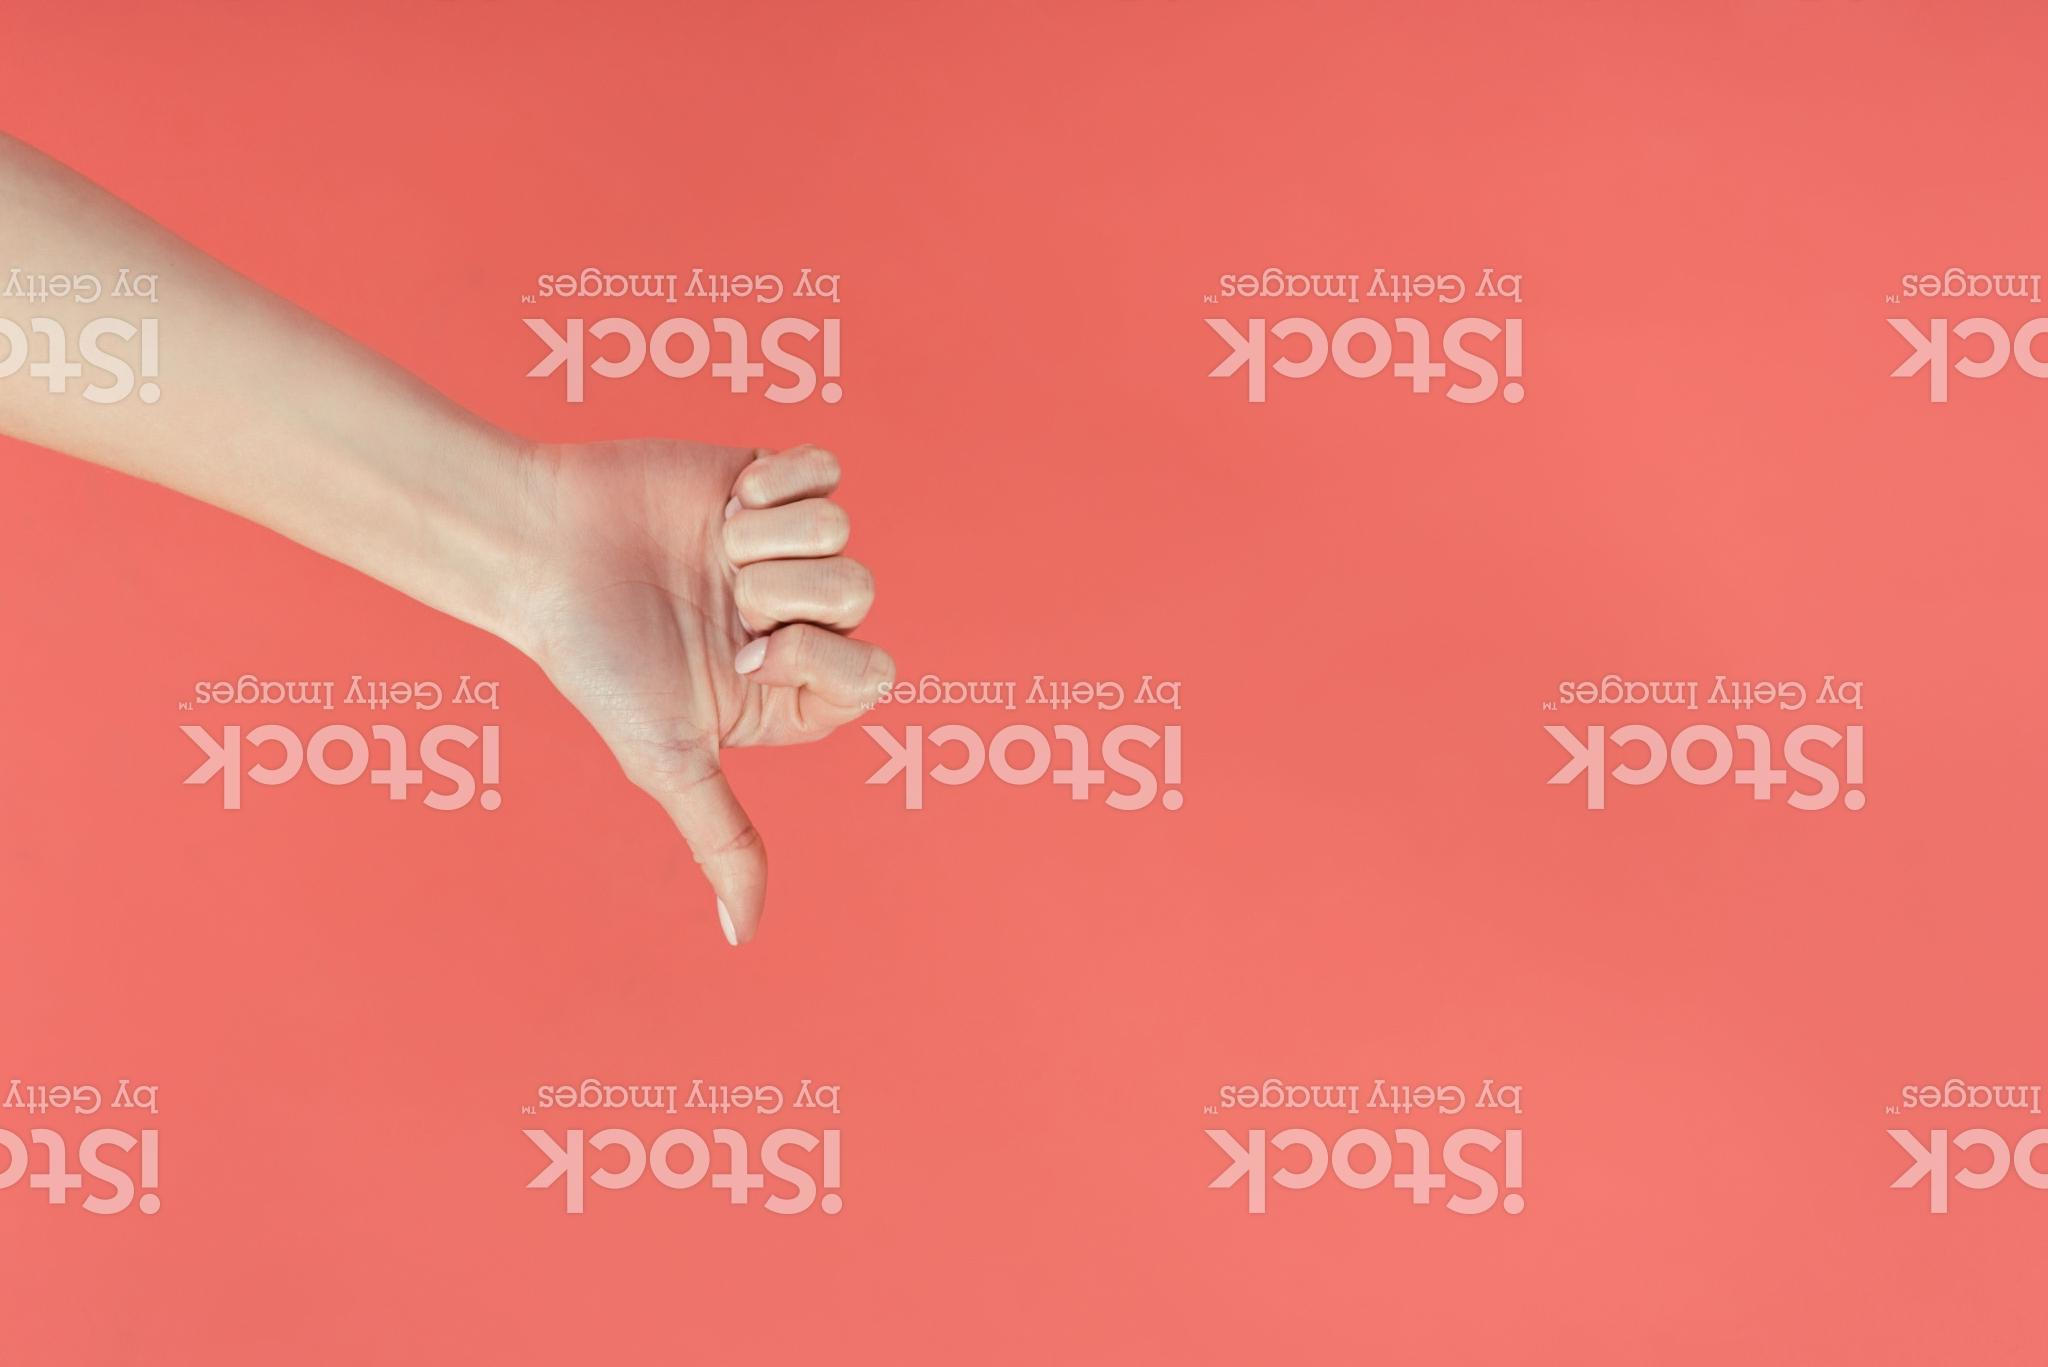thumbsdown: (583, 433, 900, 949)
